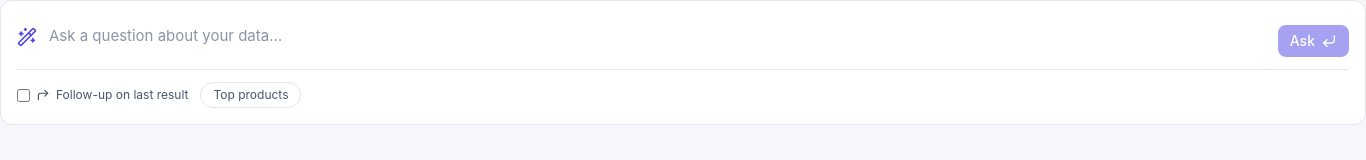
Composer › inserts schema names at the cursor
This screenshot has width=1366, height=160.
Type "total by" into the text box with test id "question-input" at [657, 37], box [49,17,1266,57]
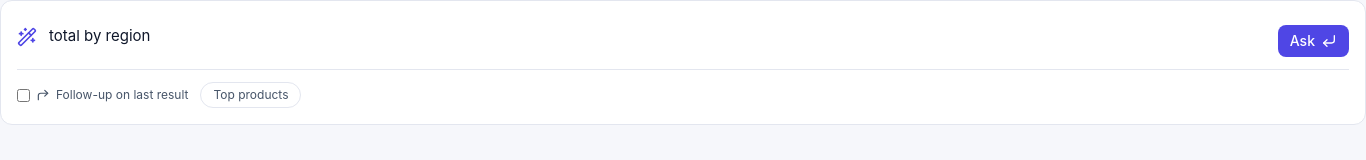
Now the text box with test id "question-input" holds "total by region ", box [49,17,1266,57]
